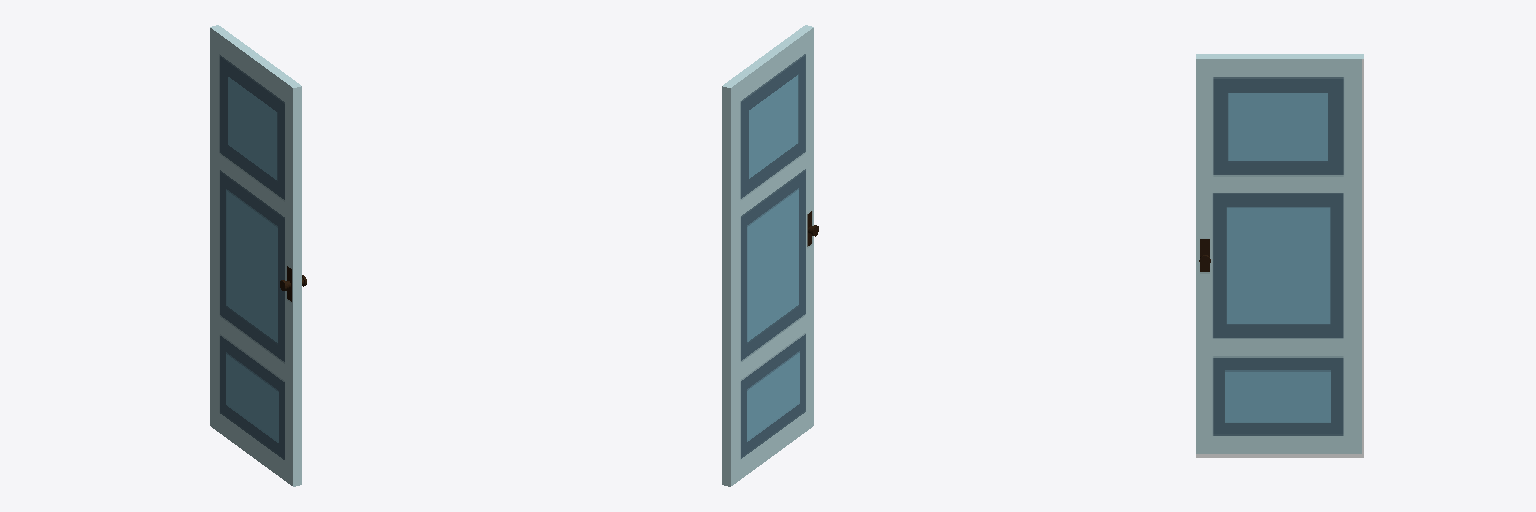
3 renders of one model, left to right at view 1: azimuth 30°, elevation 25°; view 2: azimuth 150°, elevation 25°; view 3: azimuth 270°, elevation 25°, orthographic.
Parts seen in each view (by area): view 1: pasted__pCube226; view 2: pasted__pCube226; view 3: pasted__pCube226.
Boxes of the visible parts, x1,y1,x2,y2 form: pasted__pCube226: [210, 25, 306, 486]; pasted__pCube226: [722, 25, 818, 486]; pasted__pCube226: [1196, 54, 1363, 457].
Size of the model in its own units: 0.2079 by 3.68 by 1.4.
2 materials, 2 textured.